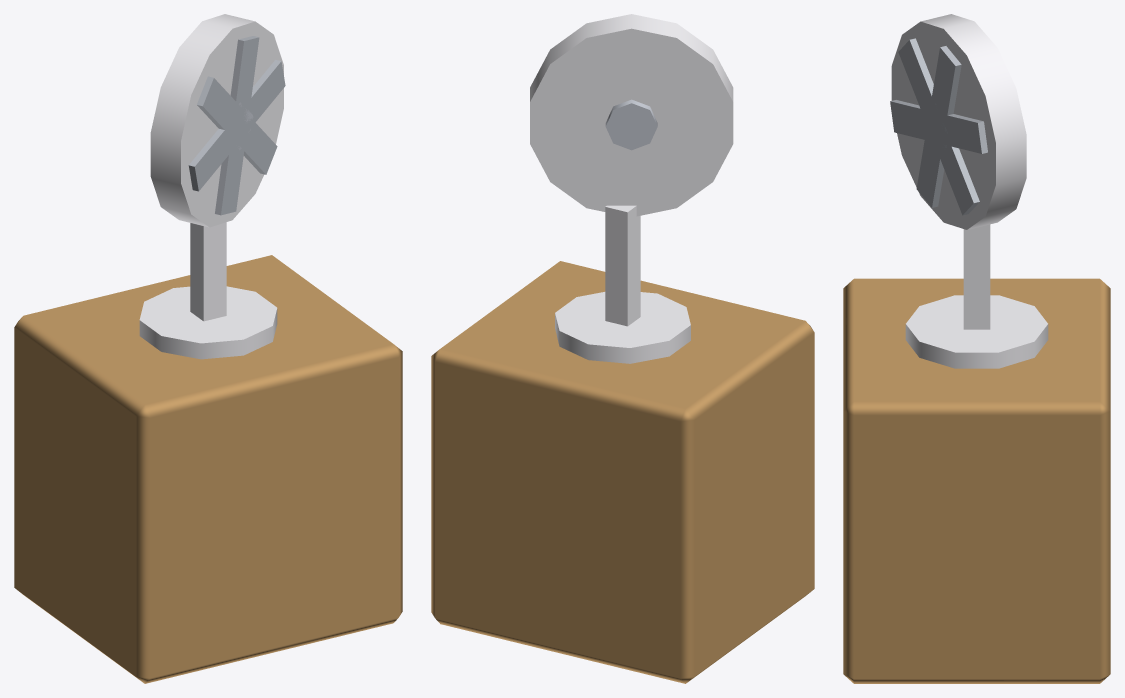
The model's file is station_transport_ausstattung_1_0.glb.
The picture shows the model from 3 angles, left to right: view 1: azimuth 30°, elevation 25°; view 2: azimuth 150°, elevation 25°; view 3: azimuth 270°, elevation 25°; orthographic projection. The views are drawn at different scales.
Visible parts, largest first — view 1: station_transport_ausstattung_1_0; view 2: station_transport_ausstattung_1_0; view 3: station_transport_ausstattung_1_0.
Part boxes in pixels (<box>): station_transport_ausstattung_1_0: <box>14,14,402,683</box>; station_transport_ausstattung_1_0: <box>431,14,814,683</box>; station_transport_ausstattung_1_0: <box>843,14,1110,683</box>.
Bounding box in the file's own units: 0.35 × 0.74 × 0.3.
